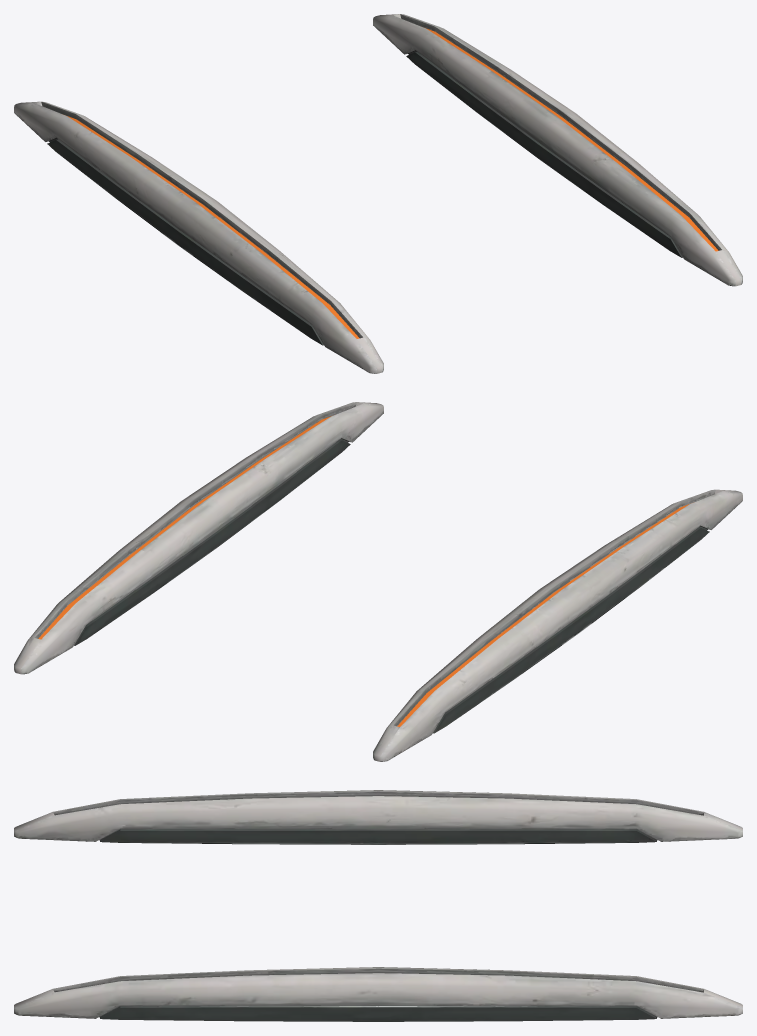
File: portal_1.glb
3 views of the same model, one above another, from view 1: azimuth 30°, elevation 25°; view 2: azimuth 150°, elevation 25°; view 3: azimuth 270°, elevation 25° (orthographic).
Parts seen in each view (by area): view 1: static_prop_34|autoportal_frame_parts\obj\autoportal_frame.; view 2: static_prop_34|autoportal_frame_parts\obj\autoportal_frame.; view 3: static_prop_34|autoportal_frame_parts\obj\autoportal_frame..
Part boxes in pixels (left/top/right/bottom): static_prop_34|autoportal_frame_parts\obj\autoportal_frame.: left=14, top=14, right=742, bottom=373; static_prop_34|autoportal_frame_parts\obj\autoportal_frame.: left=14, top=402, right=742, bottom=761; static_prop_34|autoportal_frame_parts\obj\autoportal_frame.: left=14, top=790, right=742, bottom=1021.
Bounding box in the file's own units: 1.28 × 0.125 × 2.
1 material, 1 textured.
